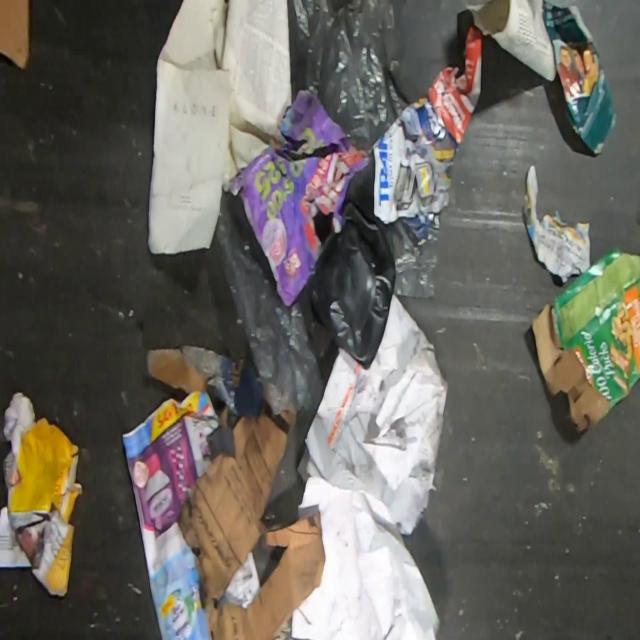cardboard: (181, 413, 323, 639), (527, 249, 640, 438), (0, 390, 83, 595), (145, 342, 268, 435)
rigid_plastic: (306, 206, 395, 366)
soft_plastic: (213, 188, 339, 416), (287, 0, 412, 151), (380, 220, 442, 300)
